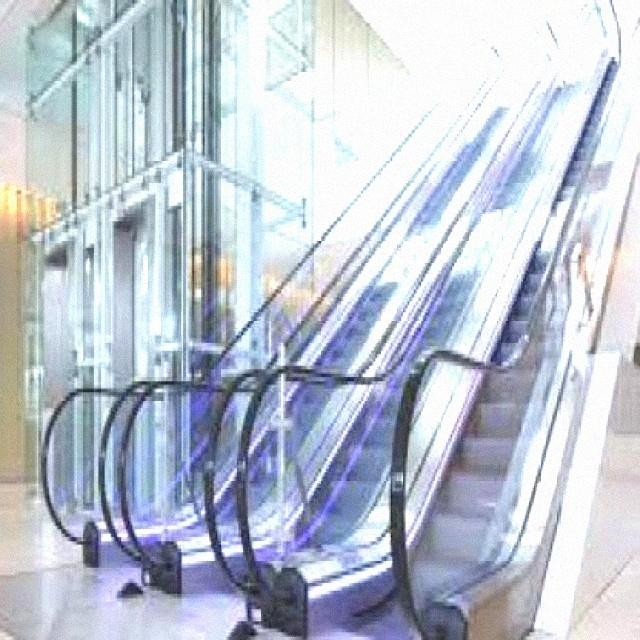stair: (388, 1, 623, 624)
